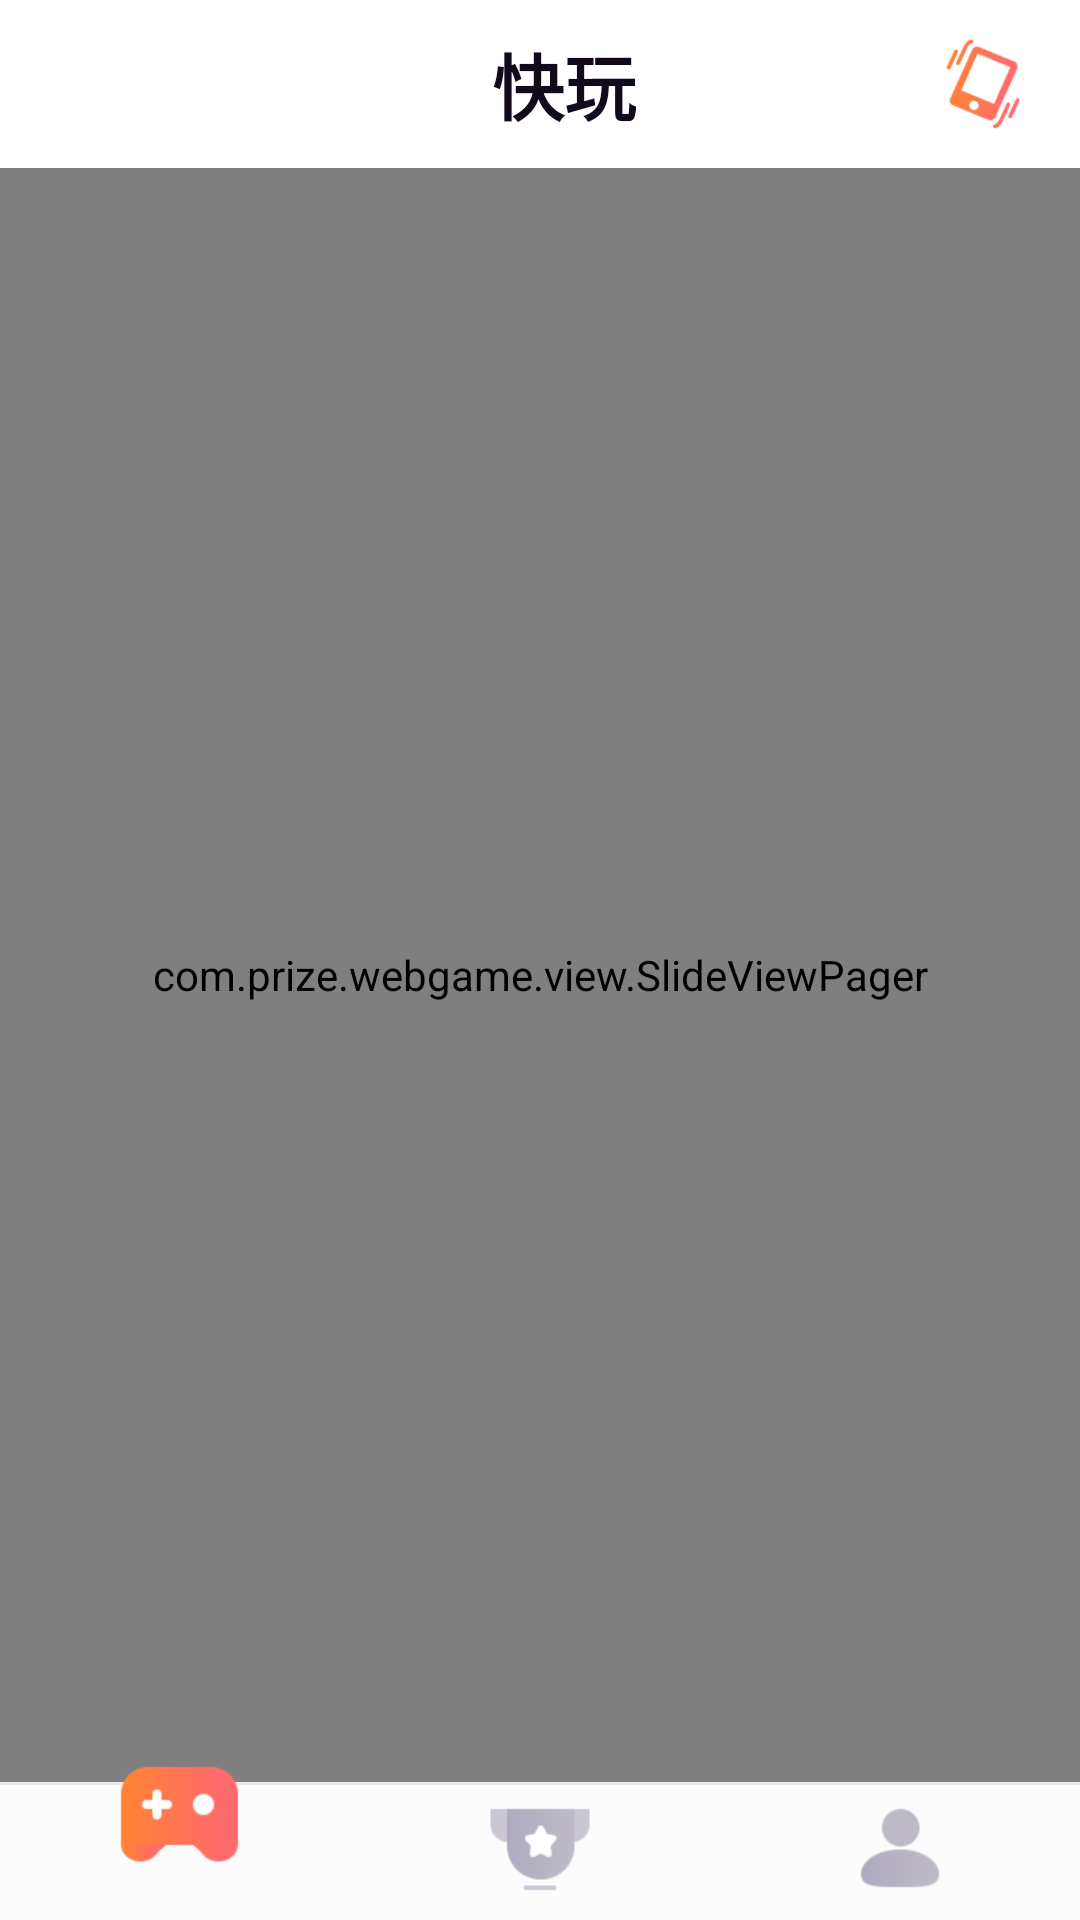

Screen size 1080*1920. Icon name, then its box in pixels as (x1, y1, x2, y2):
rank off: (490, 1809, 590, 1890)
shake: (946, 39, 1020, 129)
